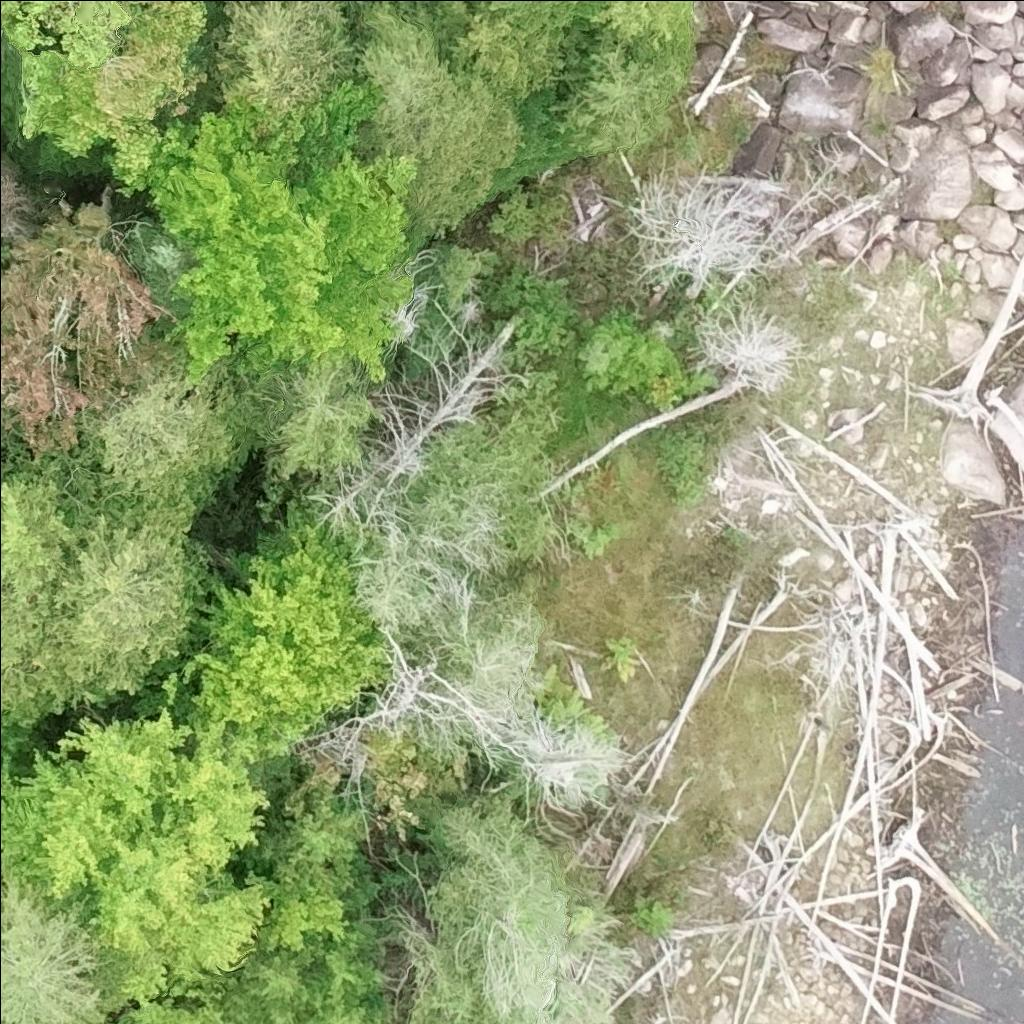crown: (0, 704, 273, 1016), (144, 77, 418, 383), (132, 495, 388, 765), (0, 184, 182, 462), (0, 0, 215, 199), (32, 495, 219, 715), (76, 357, 265, 512), (0, 446, 97, 725), (403, 65, 522, 240), (210, 0, 356, 137), (548, 29, 689, 153), (232, 357, 370, 482), (350, 0, 458, 159), (0, 876, 107, 1023), (423, 0, 564, 100), (364, 731, 473, 845), (253, 792, 369, 893), (297, 920, 385, 1023), (215, 949, 320, 1023), (258, 879, 351, 954), (469, 0, 601, 50), (126, 220, 189, 321), (587, 0, 696, 55), (0, 152, 37, 245), (0, 20, 21, 136), (0, 400, 6, 443)
